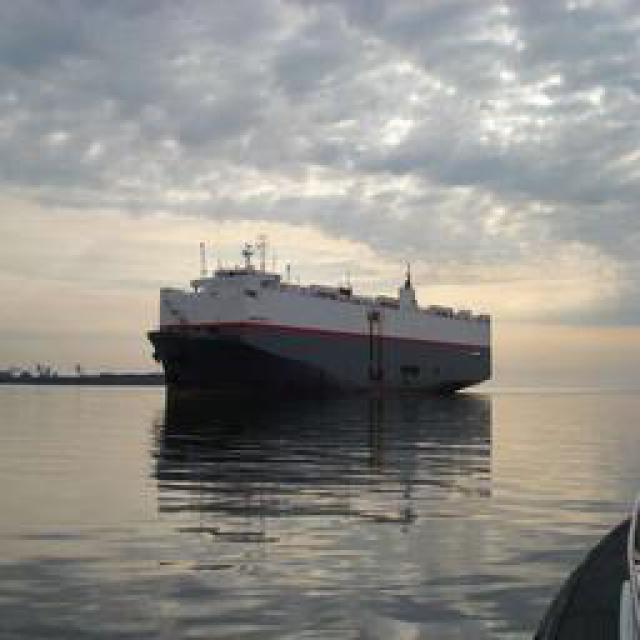Ship: (154, 241, 494, 394)
